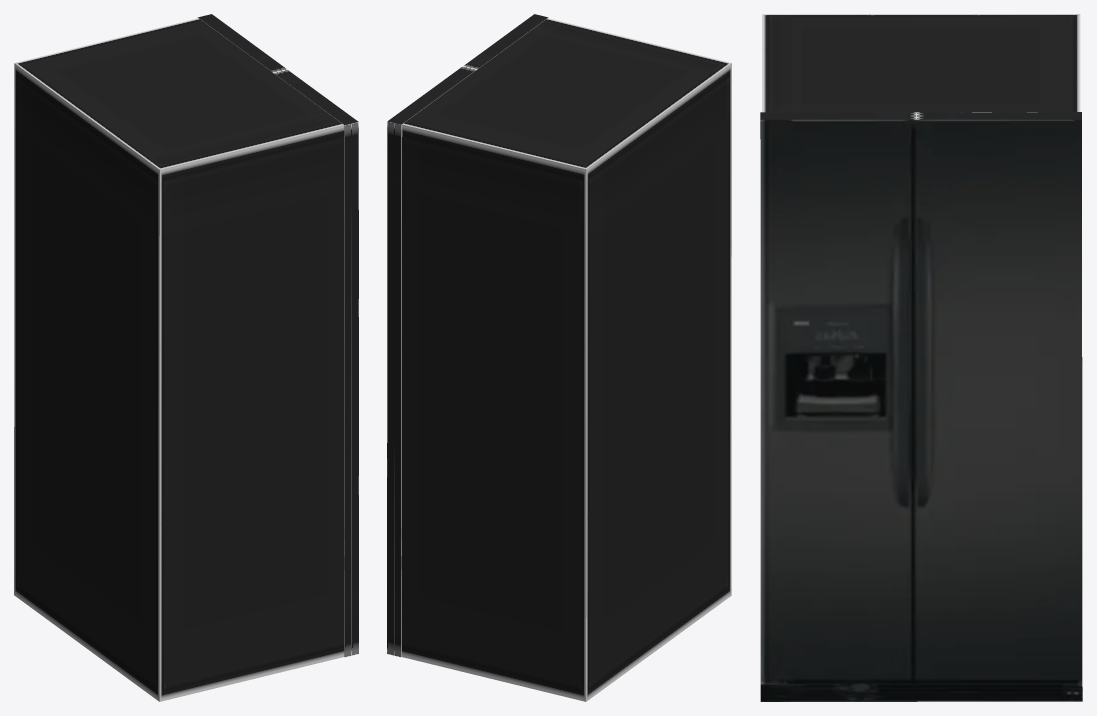
File: refrigerator.glb
3 views of the same model, side by side, from view 1: azimuth 30°, elevation 25°; view 2: azimuth 150°, elevation 25°; view 3: azimuth 270°, elevation 25° (orthographic). The views are drawn at different scales.
Parts seen in each view (by area): view 1: prim2-mesh, prim2-mesh_1, prim1-mesh, prim0-mesh, prim1-mesh_1; view 2: prim2-mesh_1, prim2-mesh, prim0-mesh, prim1-mesh, prim0-mesh_1; view 3: prim0-mesh_2, prim1-mesh_2, prim2-mesh, prim0-mesh, prim1-mesh.
Boxes of the visible parts, x1,y1,x2,y2 form: prim2-mesh: (14, 18, 343, 701); prim2-mesh_1: (14, 63, 159, 701); prim1-mesh: (273, 69, 358, 657); prim0-mesh: (198, 14, 287, 72); prim1-mesh_1: (283, 80, 344, 656); prim2-mesh_1: (402, 63, 731, 701); prim2-mesh: (402, 18, 731, 169); prim0-mesh: (387, 66, 476, 657); prim1-mesh: (463, 14, 548, 69); prim0-mesh_1: (401, 70, 475, 656); prim0-mesh_2: (916, 119, 1082, 701); prim1-mesh_2: (760, 119, 917, 701); prim2-mesh: (762, 14, 1080, 112); prim0-mesh: (916, 112, 1082, 694); prim1-mesh: (760, 112, 916, 119).
Bounding box in the file's own units: 1.09 × 2.8 × 1.4.
Materials: 4 (4 with a texture image).
